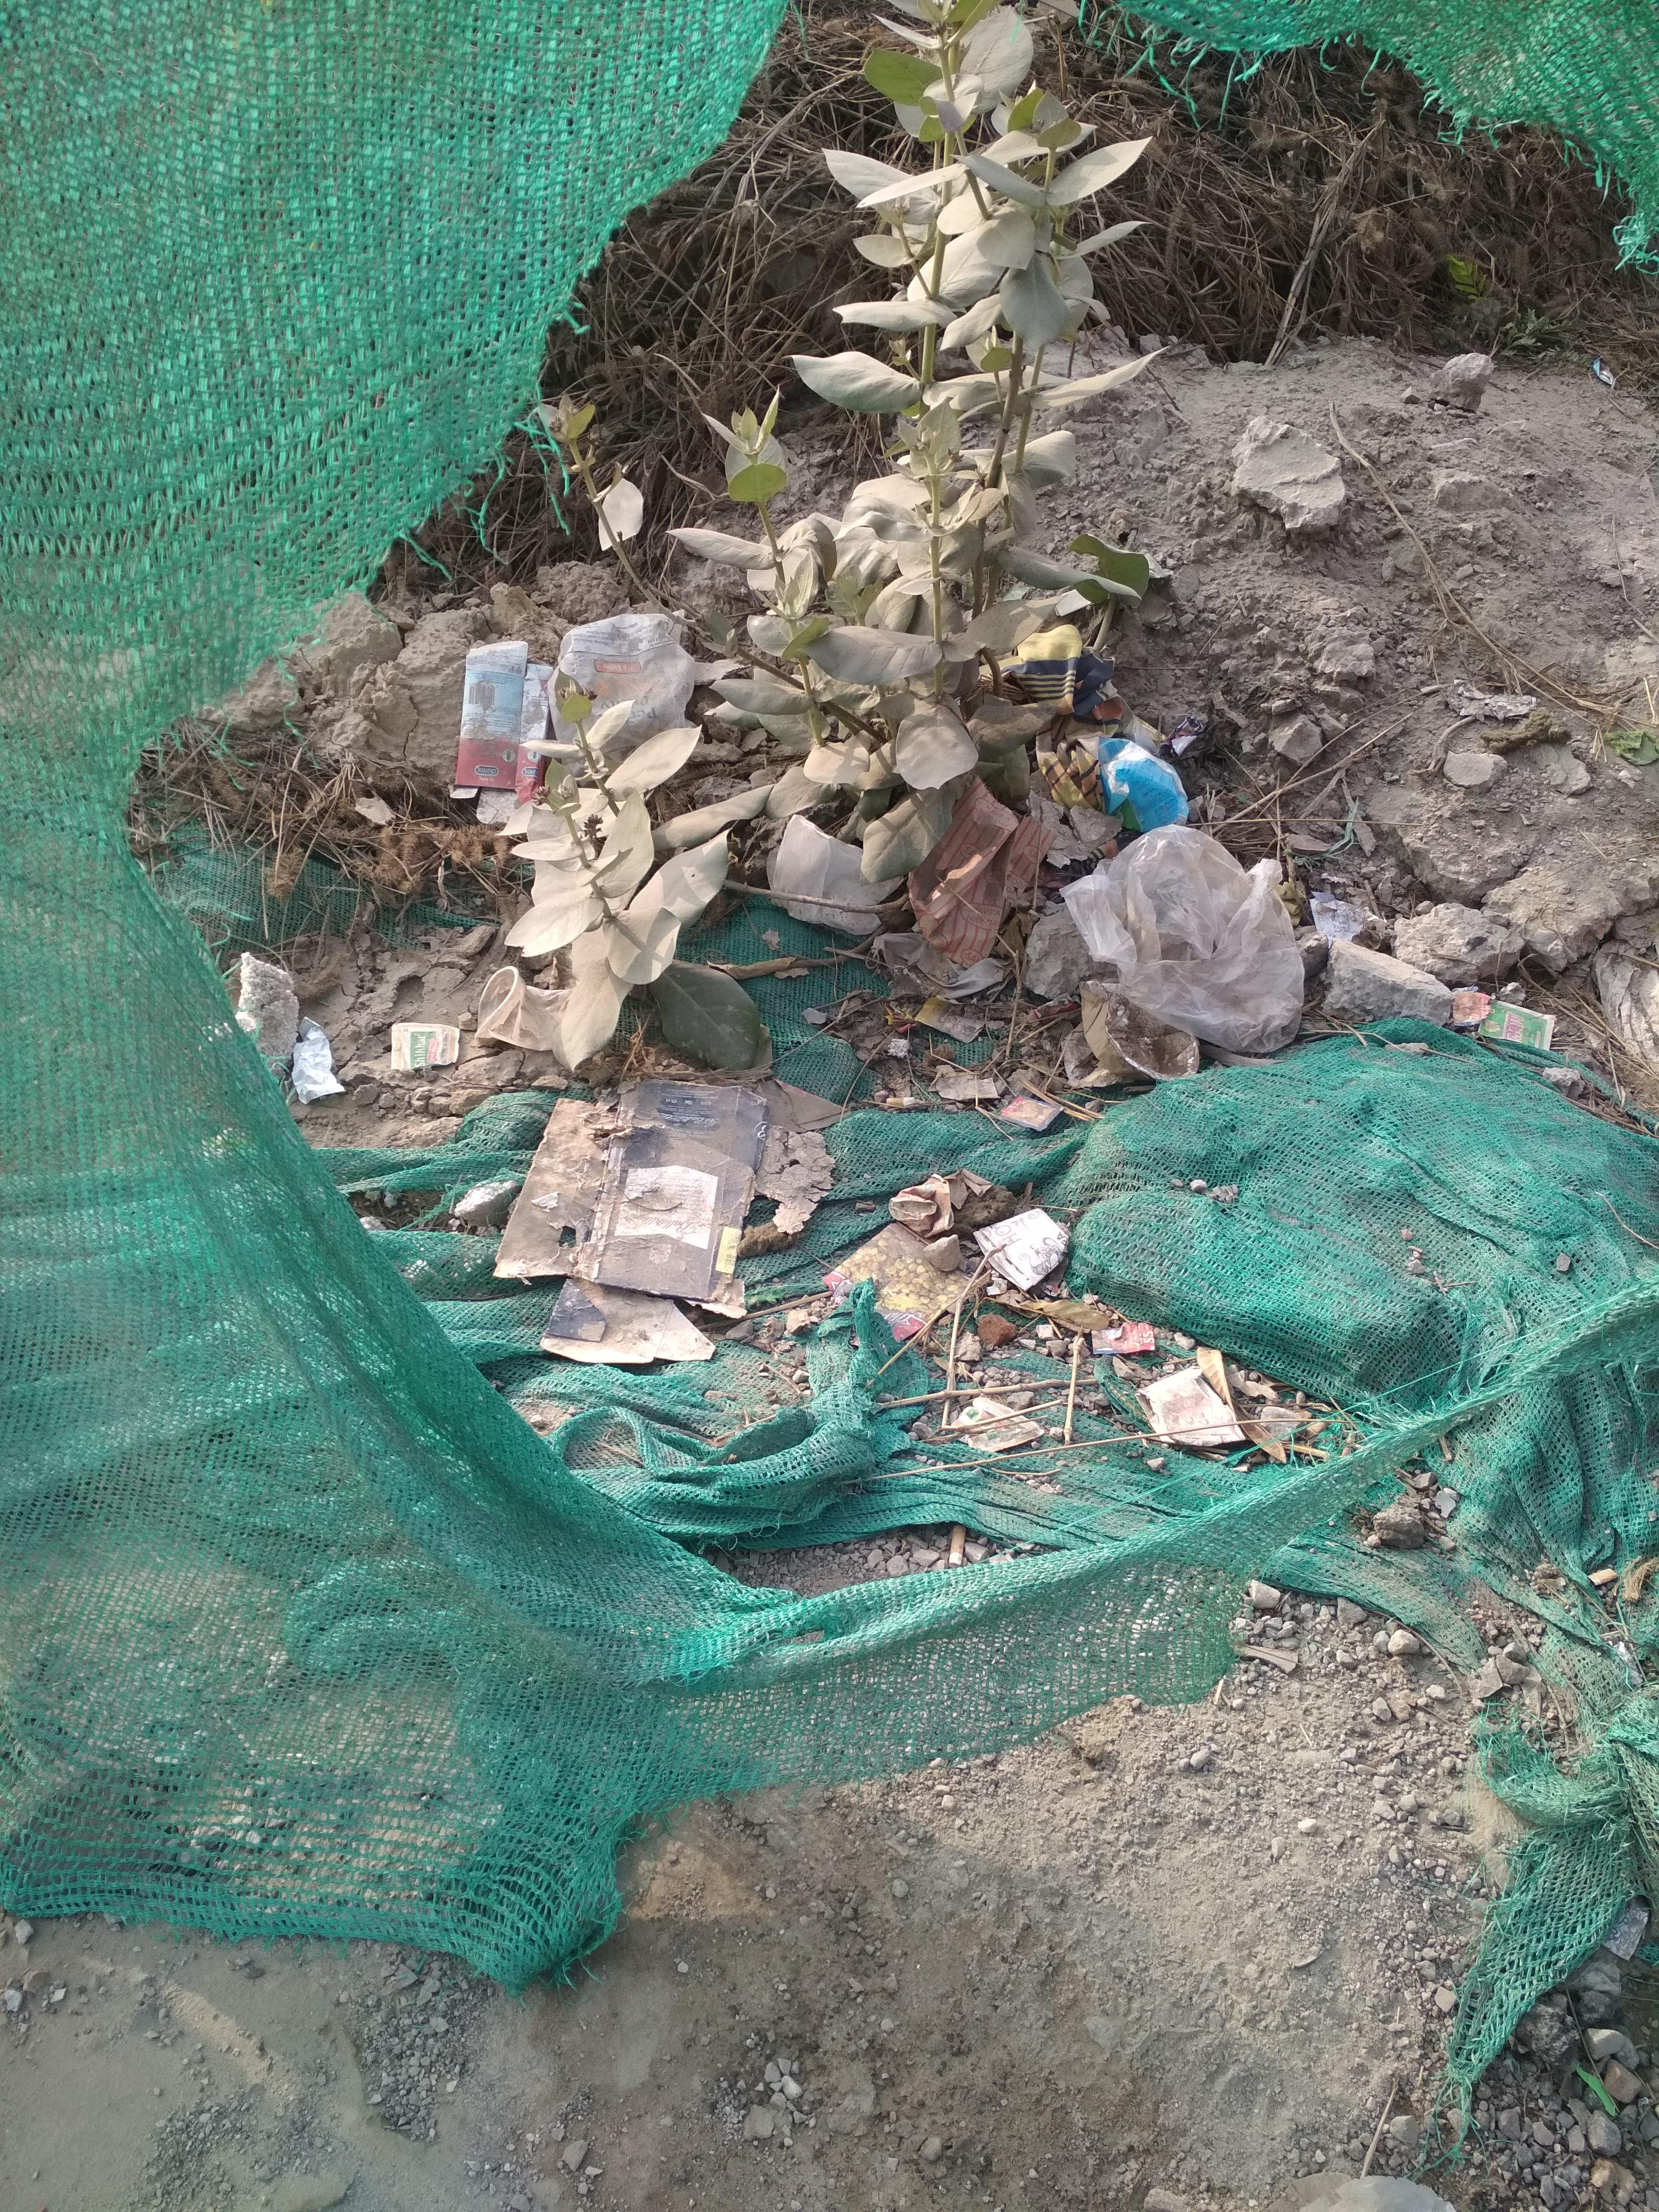trash: (214, 608, 1260, 1461)
